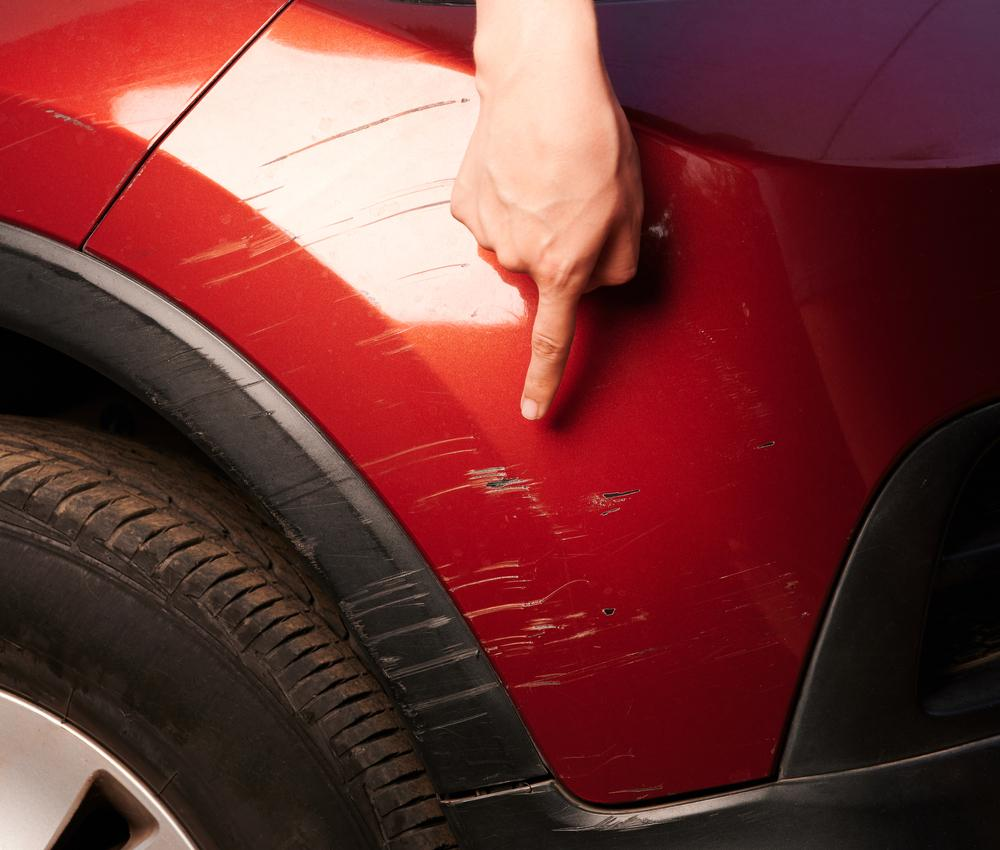scratch: (197, 82, 825, 698), (101, 294, 507, 746), (0, 69, 187, 141)
